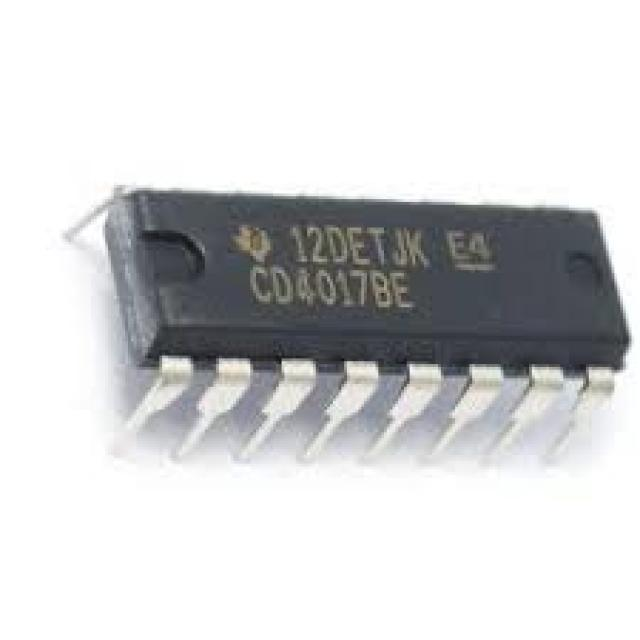IC: (87, 187, 632, 471)
